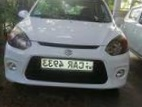car: (4, 0, 129, 89), (124, 1, 142, 63)
